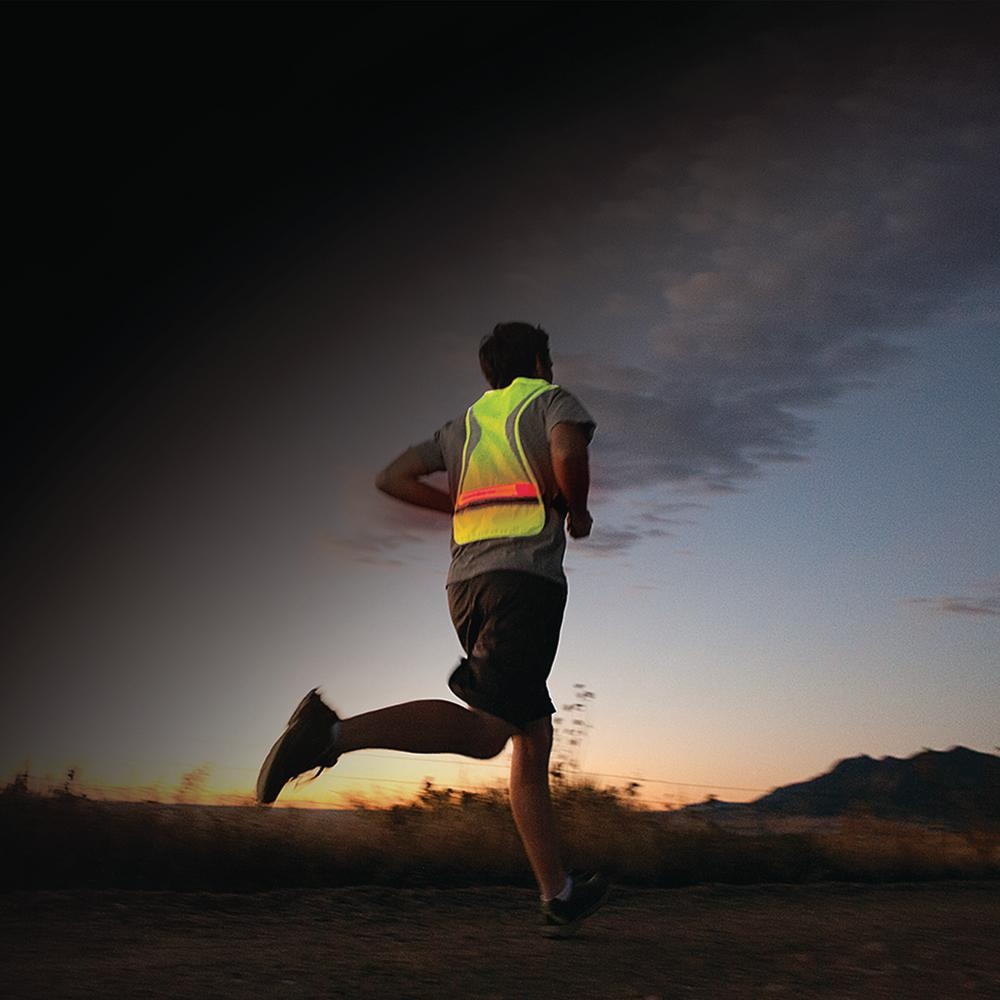person with partial safety: (371, 315, 616, 936)
safety vest: (453, 386, 559, 545)
